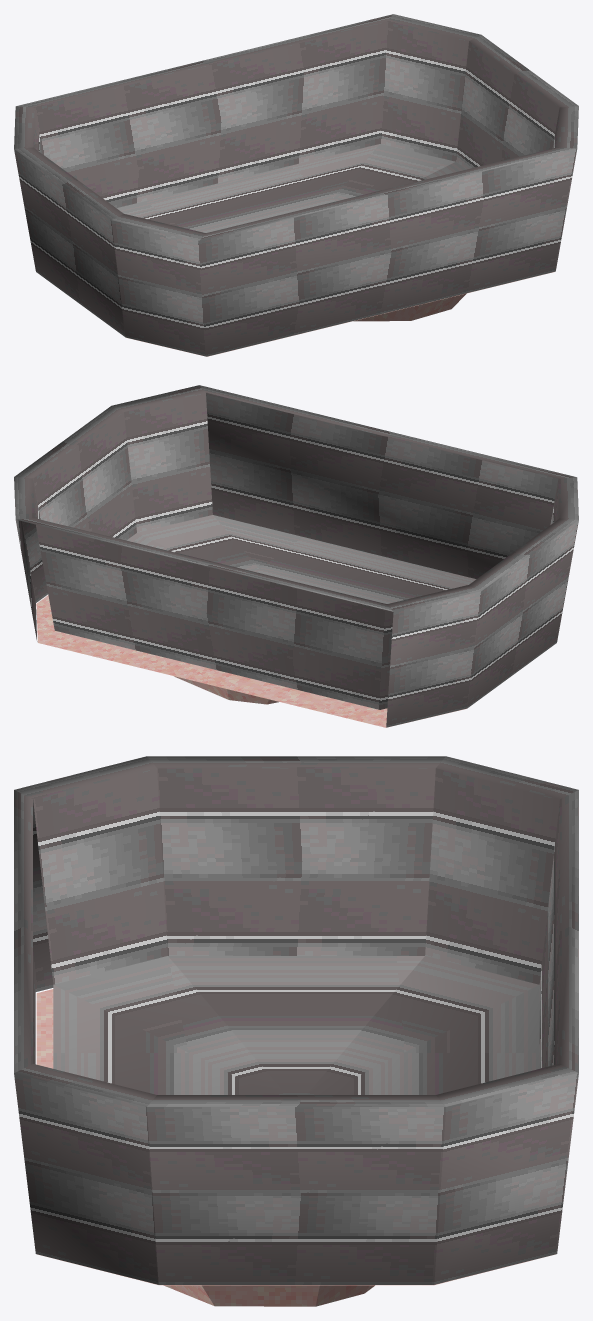
The model's file is ice_box1.gltf.
3 renders of one model, top to bottom at view 1: azimuth 30°, elevation 25°; view 2: azimuth 150°, elevation 25°; view 3: azimuth 270°, elevation 25°, orthographic. The views are drawn at different scales.
Parts seen in each view (by area): view 1: ice_box1; view 2: ice_box1; view 3: ice_box1.
Boxes of the visible parts, x1,y1,x2,y2 form: ice_box1: (14,14,578,356); ice_box1: (14,385,578,727); ice_box1: (14,756,578,1306).
Size of the model in its own units: 0.6354 by 0.2268 by 0.4326.
2 materials, 2 textured.
